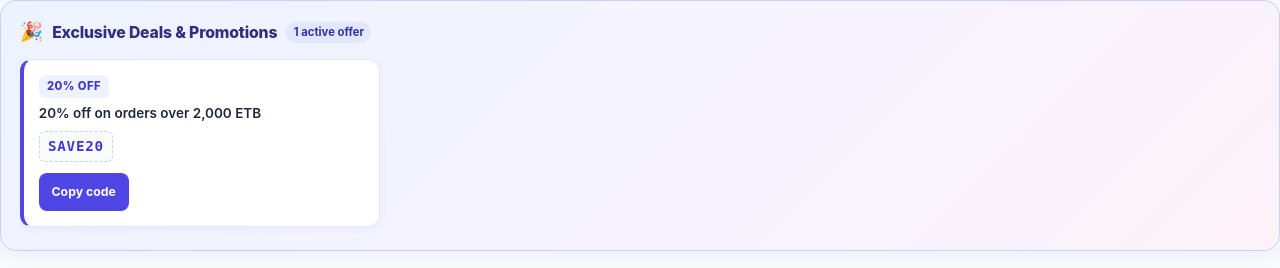
customer coupon promotions › shows active offers and confirms when a code is copied
Check: the text "20% off on orders over 2,000 ETB" is shown, box left=39, top=105, right=261, bottom=121
Click the button "Copy code" at (84, 192), box left=39, top=173, right=129, bottom=211
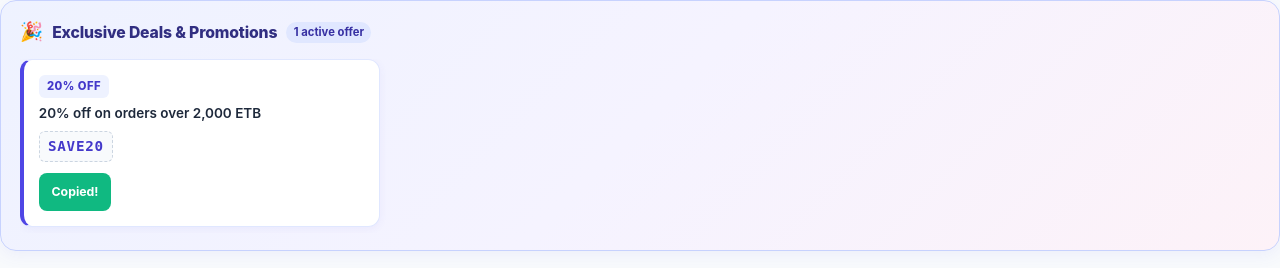
Check: the button "Copied!" is shown, box left=39, top=173, right=111, bottom=211
